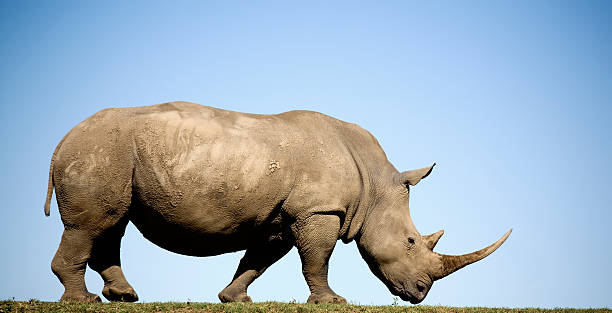rhino: (365, 149, 522, 305)
